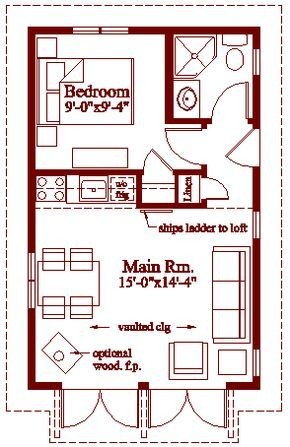door: (145, 386, 226, 431), (59, 383, 136, 429), (163, 126, 209, 168), (209, 80, 245, 123), (224, 126, 260, 167), (200, 175, 237, 206), (136, 148, 175, 174)
room: (26, 169, 265, 393), (20, 23, 263, 178)
wall: (25, 25, 38, 253), (247, 240, 264, 349), (157, 35, 177, 122), (128, 24, 261, 35), (34, 162, 146, 172), (26, 308, 38, 390), (161, 110, 211, 128), (248, 77, 262, 129), (136, 200, 208, 210), (251, 166, 265, 215), (133, 172, 147, 206), (228, 377, 261, 390), (33, 384, 59, 392)
window: (74, 23, 128, 40), (27, 253, 40, 302), (249, 208, 264, 242), (249, 45, 264, 78), (250, 345, 262, 376)
